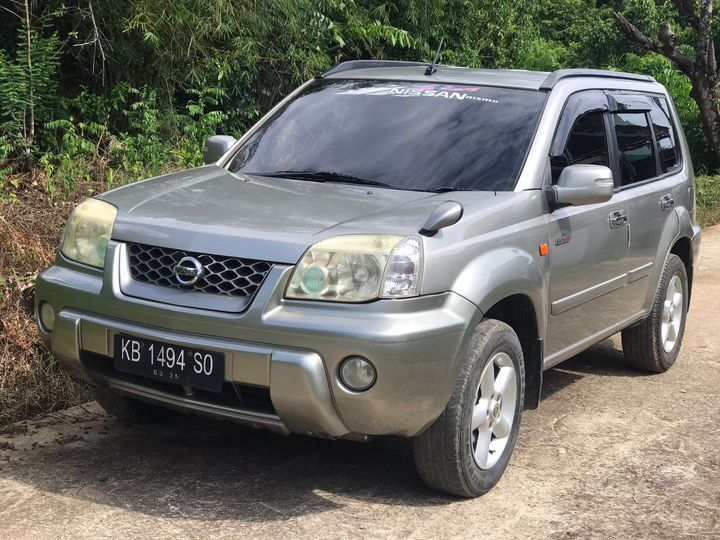plate: (111, 335, 229, 386)
